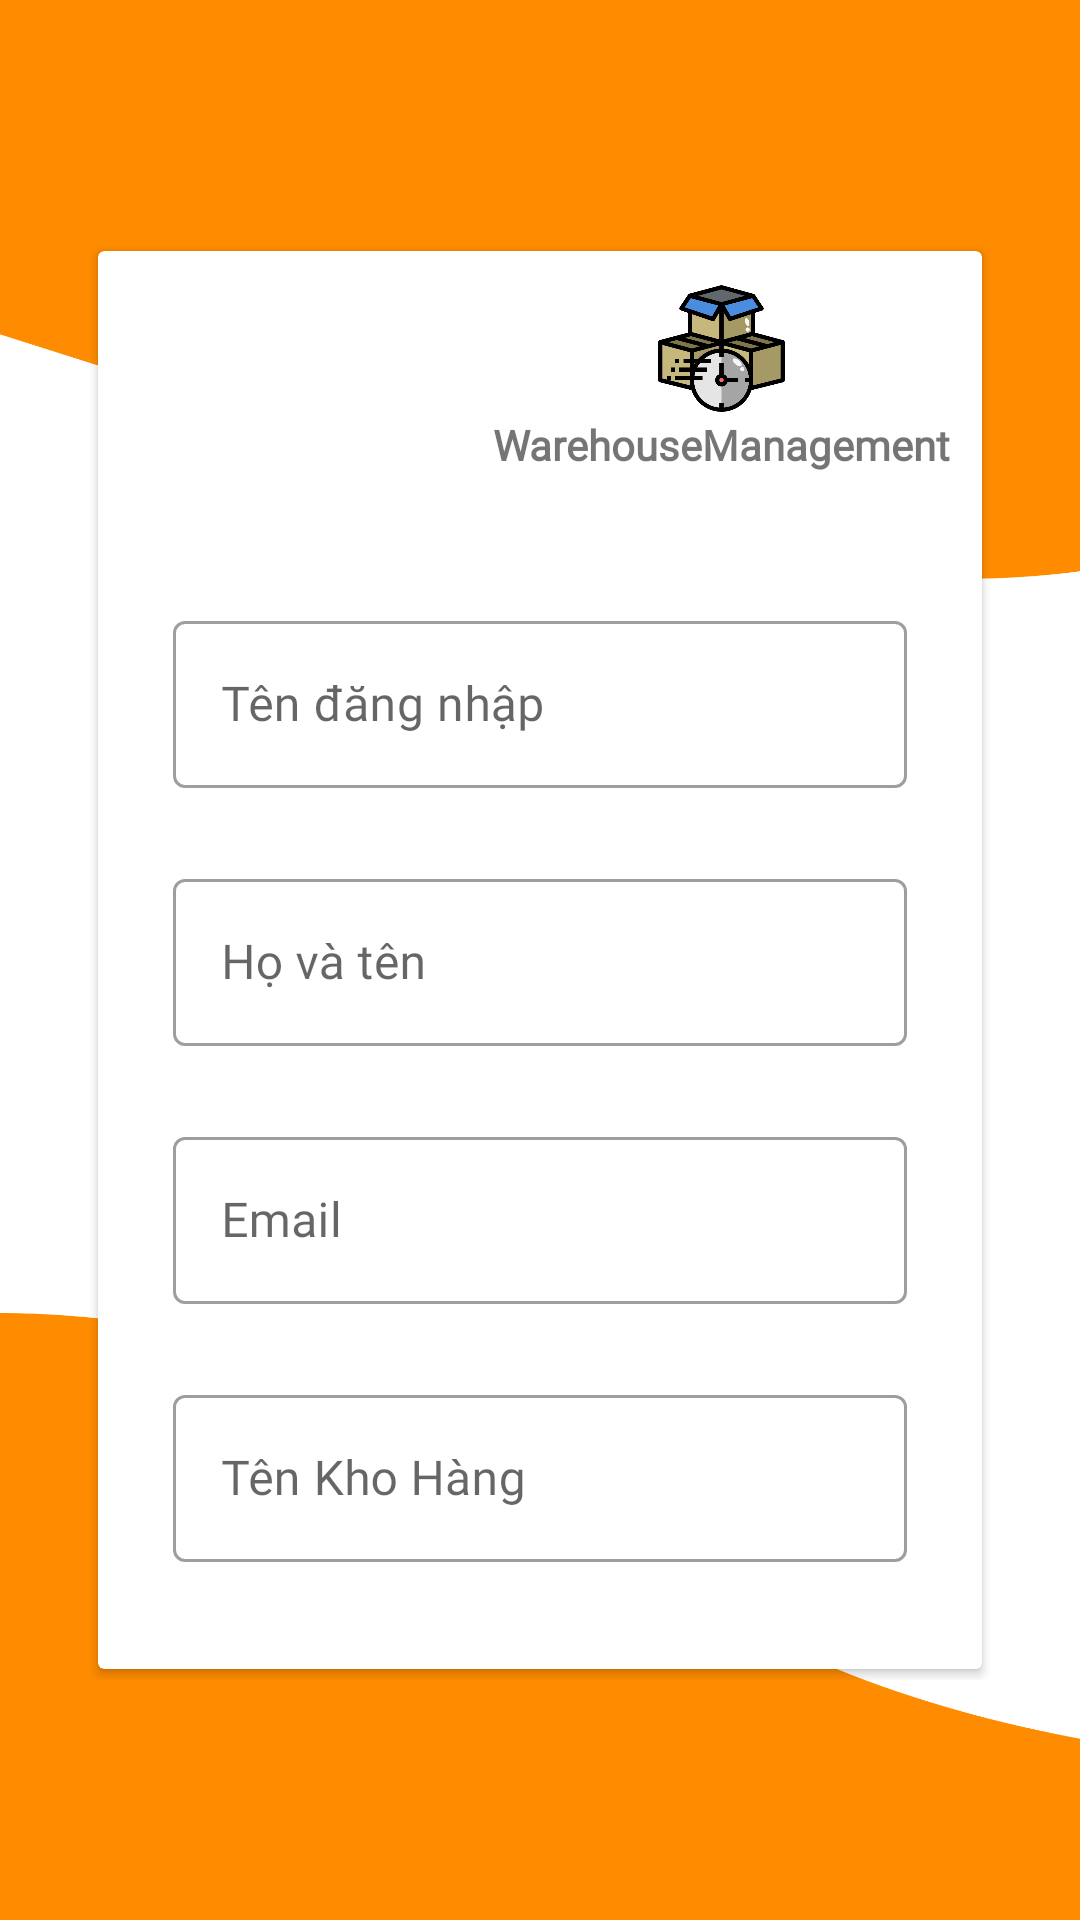

Locate icon controls on the screen. Image size 1080px x 1920px, boxes as (x1, y1, x2, y2).
production: (658, 285, 785, 412)
